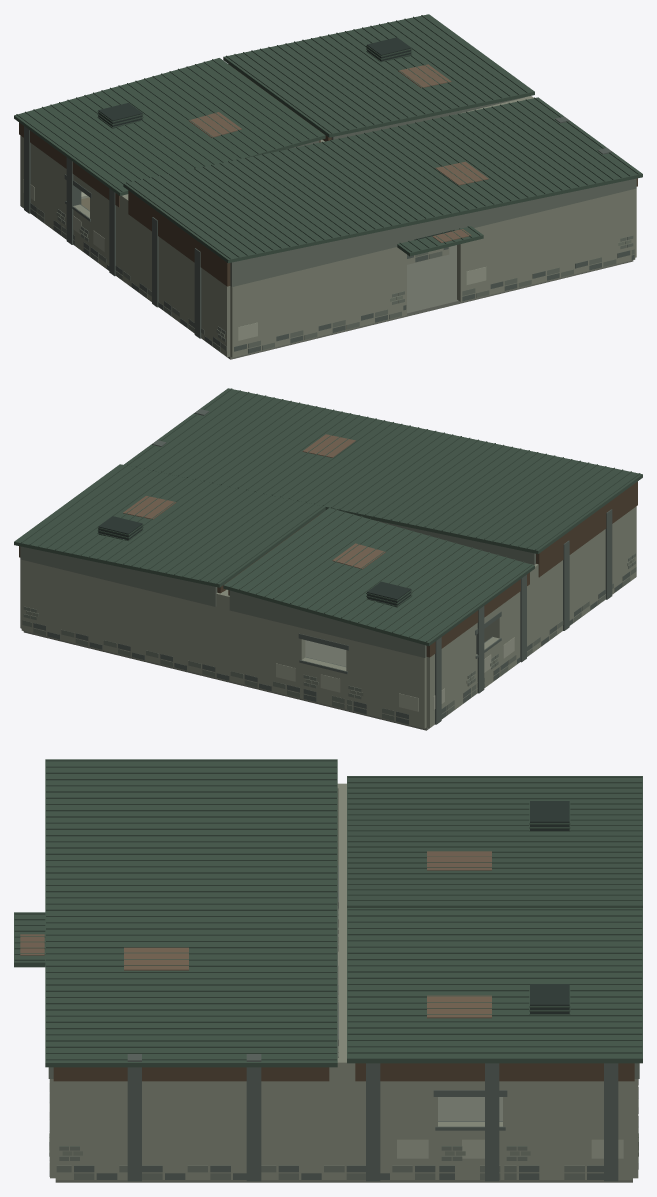
File: FSA_ENV_Shared_Retained_01_Partitioned.glb
3 views of the same model, one above another, from view 1: azimuth 30°, elevation 25°; view 2: azimuth 150°, elevation 25°; view 3: azimuth 270°, elevation 25° (orthographic). The views are drawn at different scales.
Parts seen in each view (by area): view 1: Roof_Front, Roof_RearWest, Roof_RearEast, FrontLeft, FrontRight, WestRight, Floor, WestLeft, RoofEave_817, RoofEave_893, Roof_EntryCanopy, RoofPatch_639 (+9 smaller); view 2: Roof_Front, Roof_RearWest, BackRight, Roof_RearEast, WestRight, BackLeft, WestLeft, RoofEave_817, Floor, BackSill, RoofEave_893, RoofPatch_639 (+10 smaller); view 3: Roof_Front, Roof_RearEast, EastRight, Roof_RearWest, EastLeft, RoofEave_970, RoofEave_818, Floor, EastSill, Buttress8, Buttress9, Buttress5 (+50 smaller).
Part boxes in pixels (bbox=[...]): Roof_Front: bbox=[123, 97, 642, 263]; Roof_RearWest: bbox=[14, 58, 325, 195]; Roof_RearEast: bbox=[223, 14, 534, 137]; FrontLeft: bbox=[230, 247, 406, 357]; FrontRight: bbox=[457, 189, 635, 301]; WestRight: bbox=[90, 186, 230, 357]; Floor: bbox=[227, 245, 633, 359]; WestLeft: bbox=[20, 135, 66, 239]; RoofEave_817: bbox=[128, 190, 230, 286]; RoofEave_893: bbox=[19, 122, 119, 207]; Roof_EntryCanopy: bbox=[397, 226, 483, 256]; RoofPatch_639: bbox=[188, 112, 241, 137]; Roof_Front: bbox=[123, 388, 642, 553]; Roof_RearWest: bbox=[223, 508, 534, 646]; BackRight: bbox=[21, 560, 305, 698]; Roof_RearEast: bbox=[14, 464, 325, 587]; WestRight: bbox=[493, 506, 636, 676]; BackLeft: bbox=[346, 639, 426, 728]; WestLeft: bbox=[426, 624, 476, 728]; RoofEave_817: bbox=[536, 481, 637, 577]; Floor: bbox=[23, 631, 429, 730]; BackSill: bbox=[301, 657, 346, 709]; RoofEave_893: bbox=[426, 572, 529, 657]; RoofPatch_639: bbox=[332, 543, 385, 569]; Roof_Front: bbox=[45, 759, 337, 1067]; Roof_RearEast: bbox=[347, 908, 642, 1063]; EastRight: bbox=[55, 1058, 437, 1180]; Roof_RearWest: bbox=[347, 776, 642, 907]; EastLeft: bbox=[503, 1081, 632, 1180]; RoofEave_970: bbox=[355, 1063, 634, 1081]; RoofEave_818: bbox=[53, 1067, 329, 1081]; Floor: bbox=[55, 906, 632, 1182]; EastSill: bbox=[438, 1122, 502, 1180]; Buttress8: bbox=[246, 1054, 261, 1181]; Buttress9: bbox=[127, 1054, 141, 1181]; Buttress5: bbox=[604, 1063, 618, 1181].
Size of the model in its own units: 18.54 by 4.47 by 17.43.
